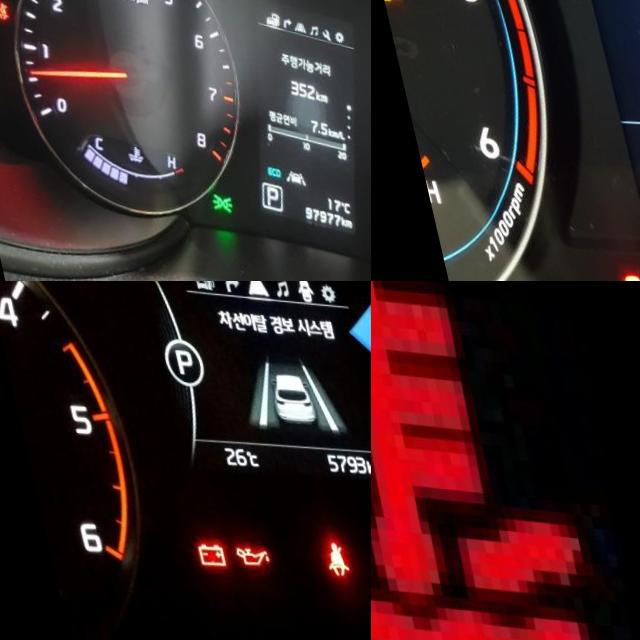Doors: (588, 270, 629, 281)
Engine cooling system: (371, 281, 600, 640)
LaneCenteringOff: (263, 161, 288, 182)
SideLamp: (186, 186, 214, 211)
